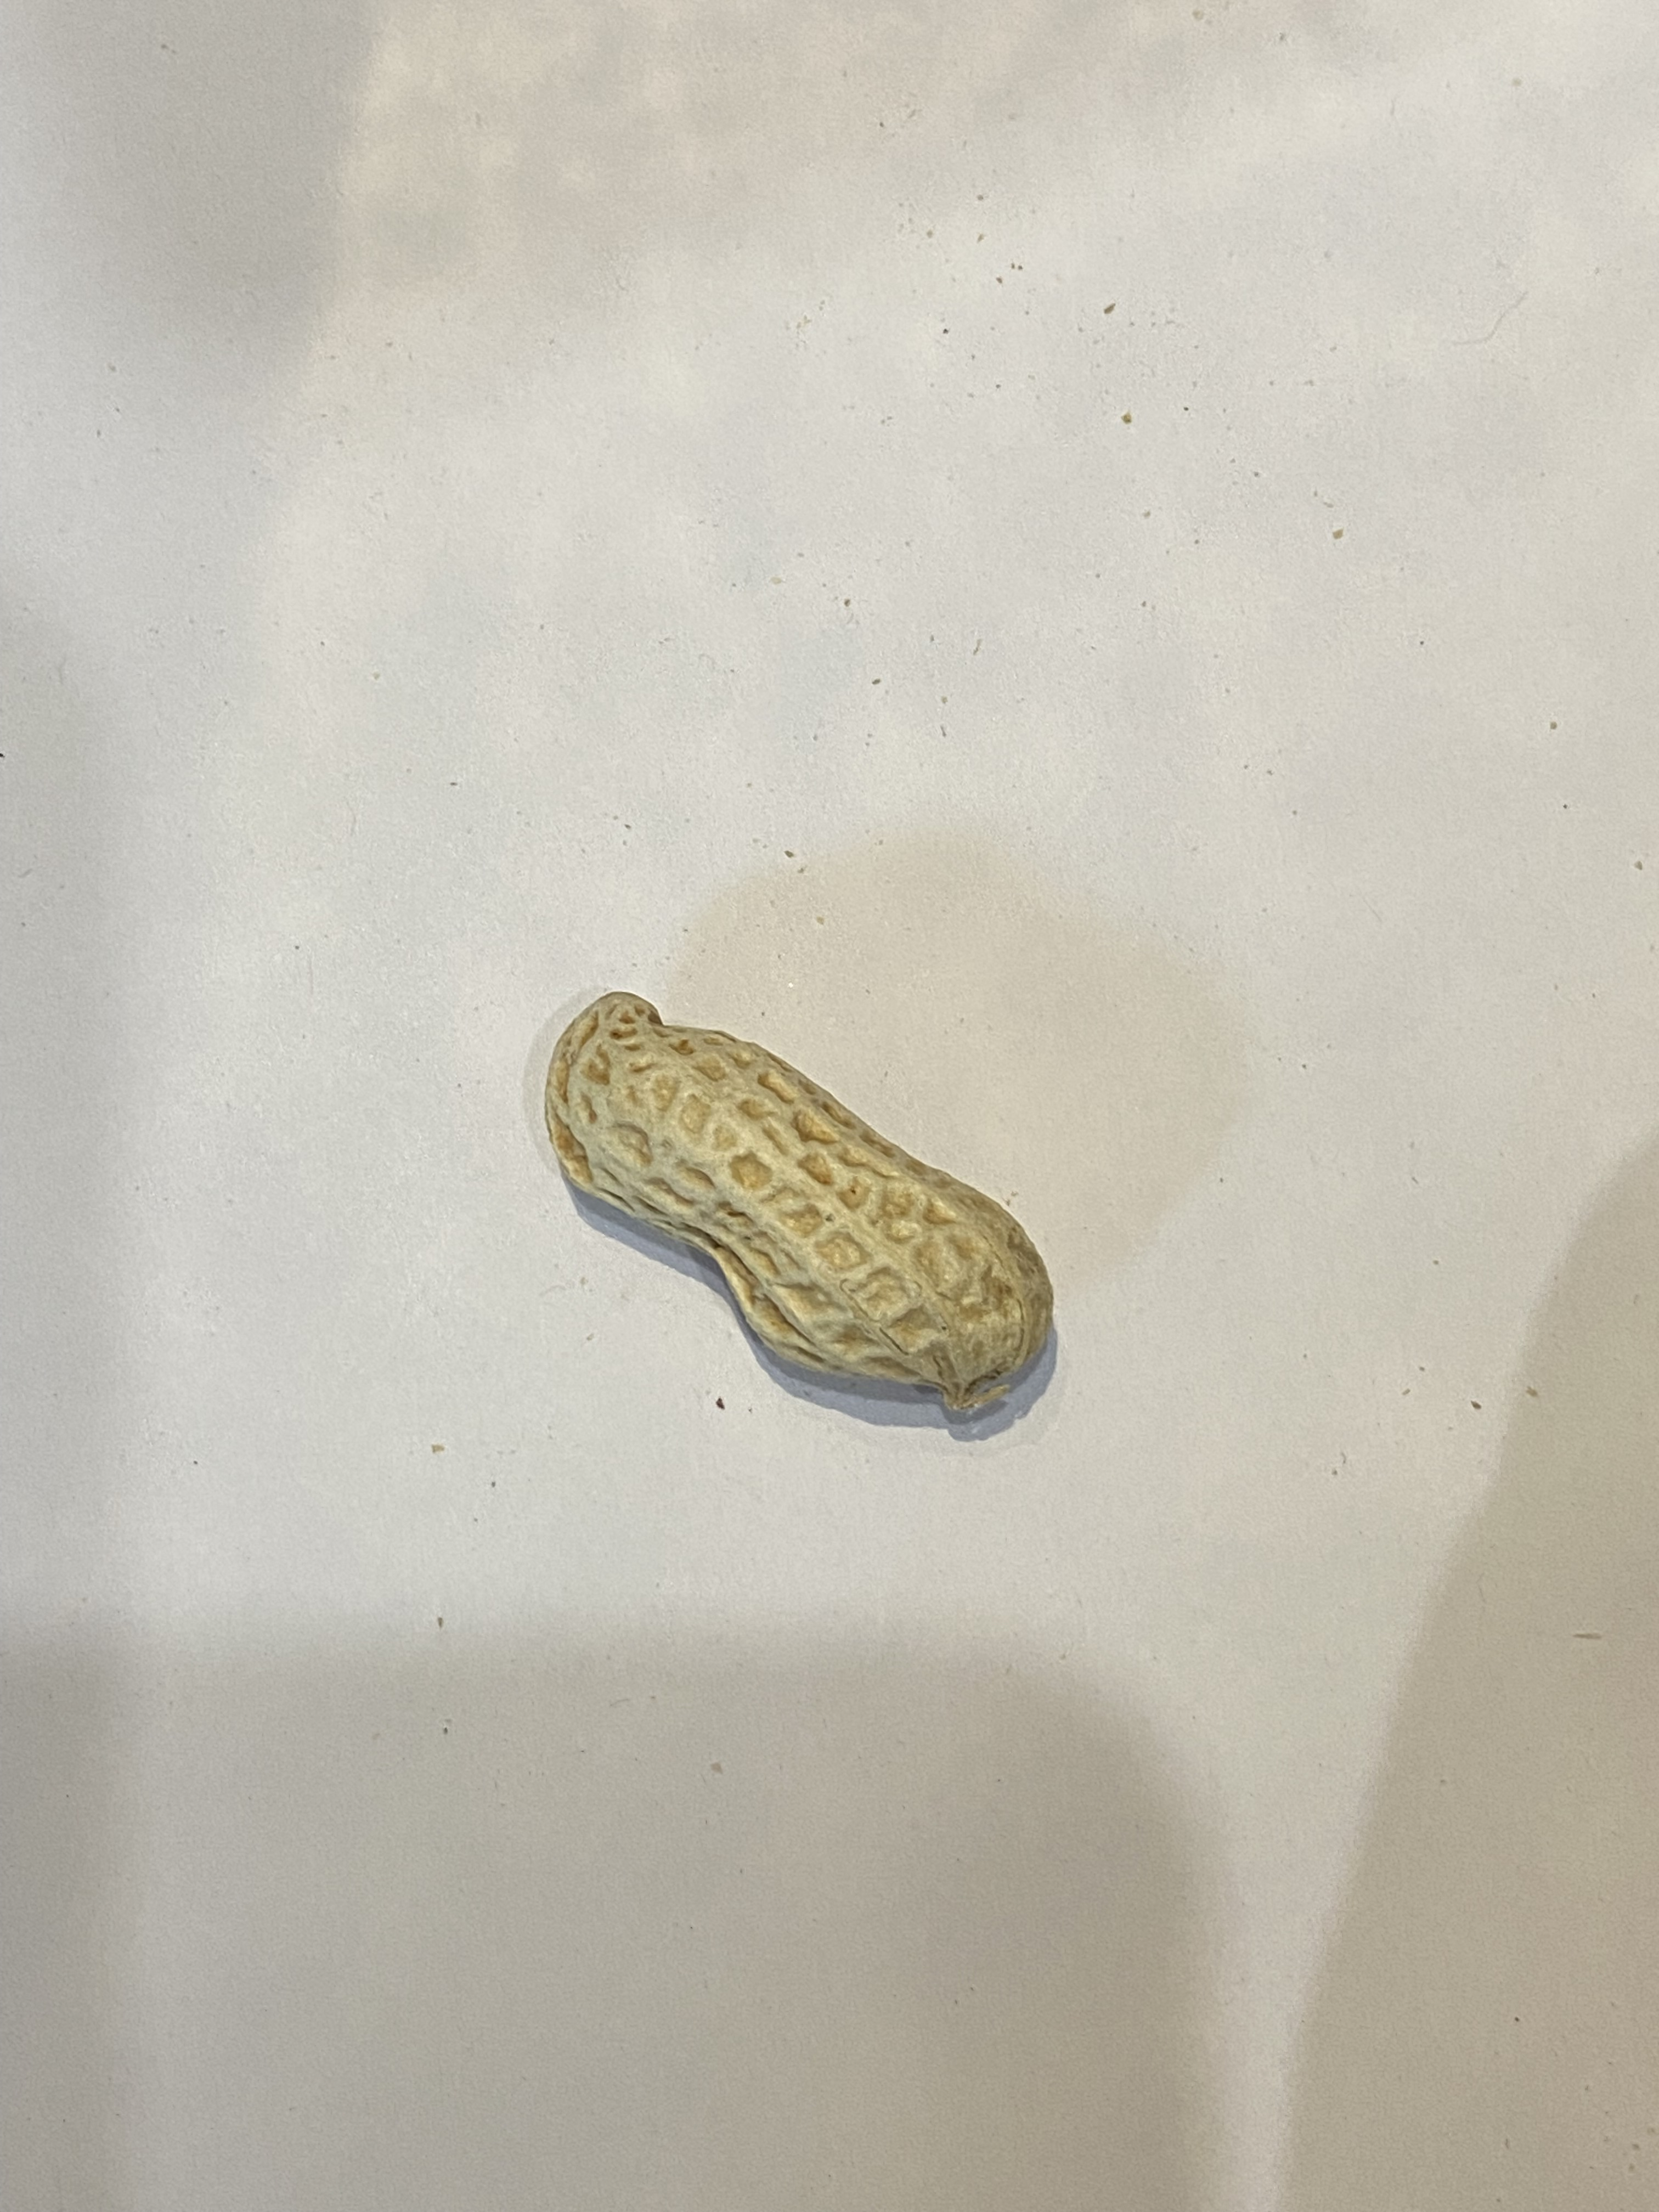kacang2: (530, 972, 1058, 1425)
